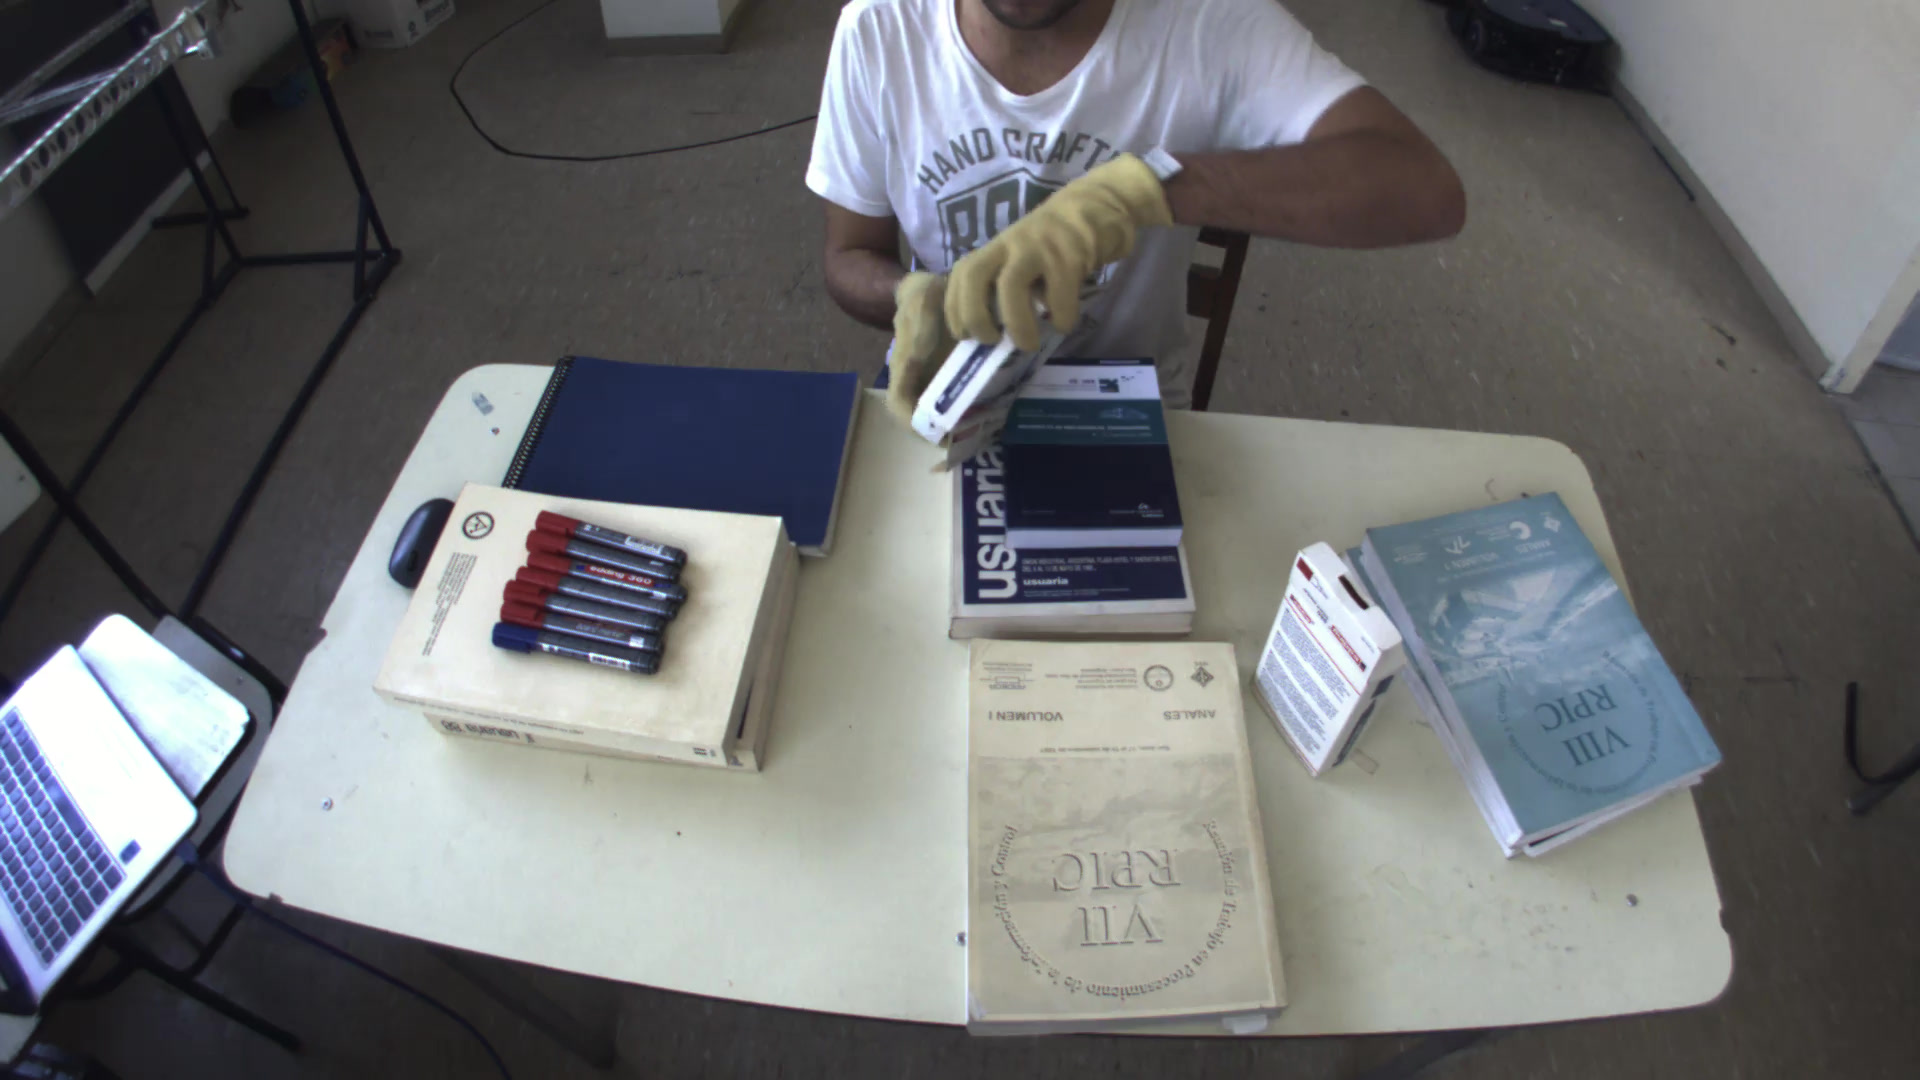hand: (916, 146, 1180, 351)
